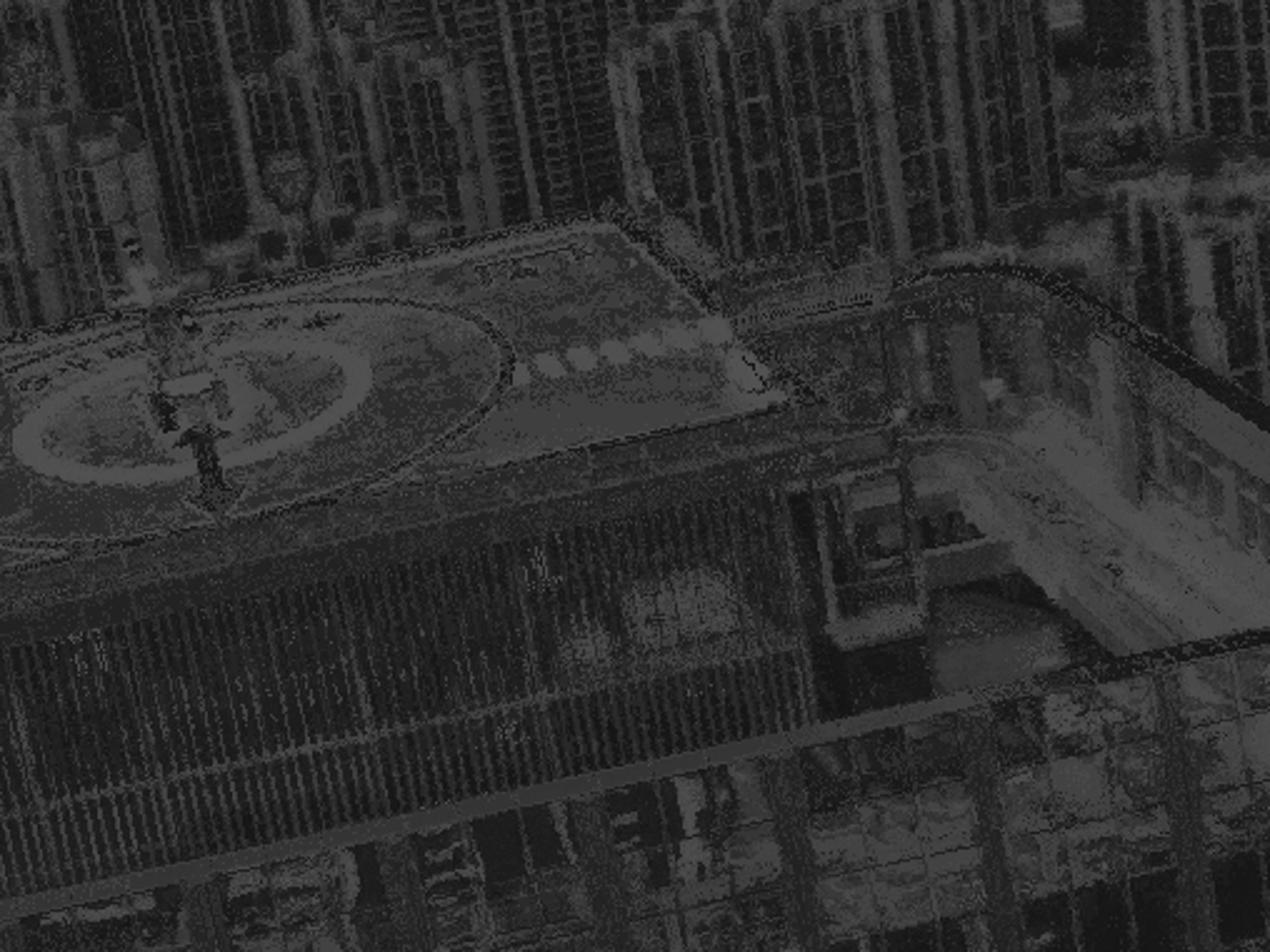Apron: (14, 324, 383, 502)
